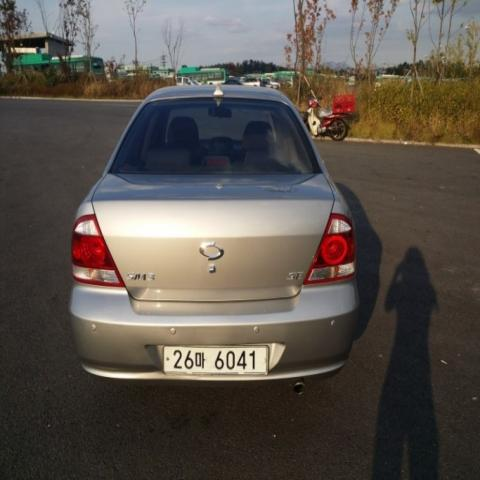LP: (156, 334, 276, 383)
